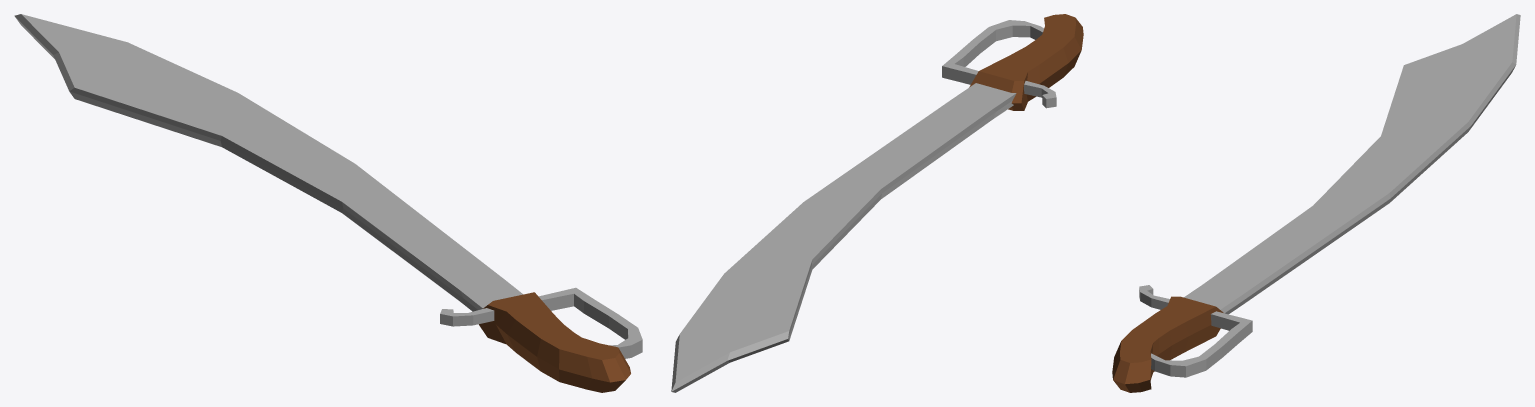
Rendered from Saber.fbx.
3 renders of one model, left to right at view 1: azimuth 30°, elevation 25°; view 2: azimuth 150°, elevation 25°; view 3: azimuth 330°, elevation 25°, orthographic. The views are drawn at different scales.
Parts seen in each view (by area): view 1: Saber; view 2: Saber; view 3: Saber.
Boxes of the visible parts, x1=… form: Saber: x1=14, y1=14, x2=642, y2=392; Saber: x1=671, y1=14, x2=1083, y2=392; Saber: x1=1112, y1=14, x2=1520, y2=392.
Size of the model in its own units: 111 by 20.02 by 578.
